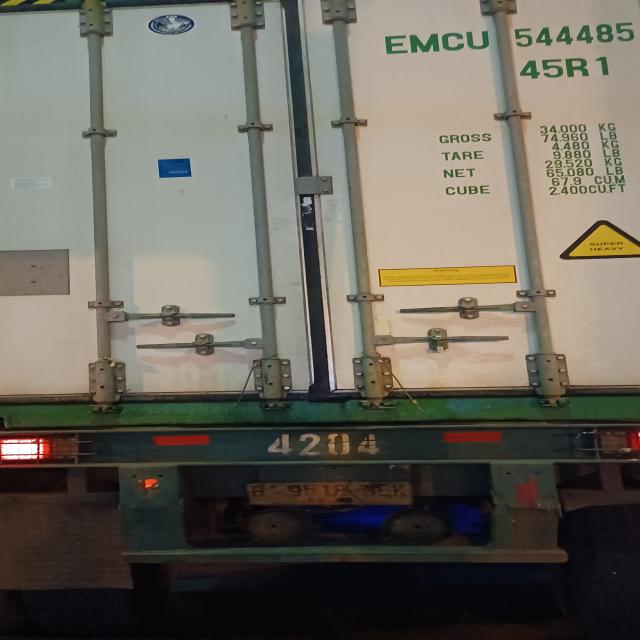seal: (430, 334, 448, 353)
